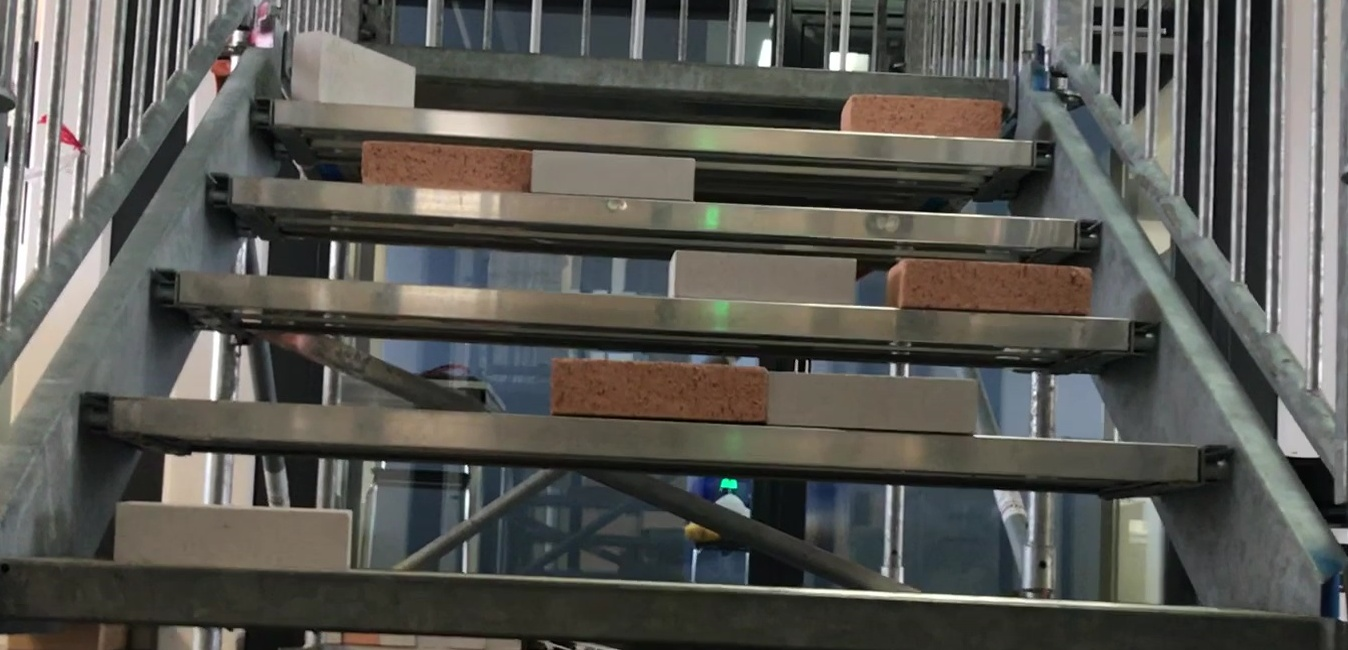brick: (115, 503, 350, 569), (551, 358, 765, 423), (768, 371, 975, 433), (886, 258, 1093, 315), (666, 251, 855, 305), (362, 140, 530, 195), (292, 32, 414, 107), (534, 151, 692, 198), (844, 94, 1000, 138)
edge: (8, 559, 1318, 650), (80, 395, 1233, 491), (147, 271, 1161, 358), (202, 172, 1100, 255), (248, 95, 1056, 176), (280, 35, 1013, 102)
